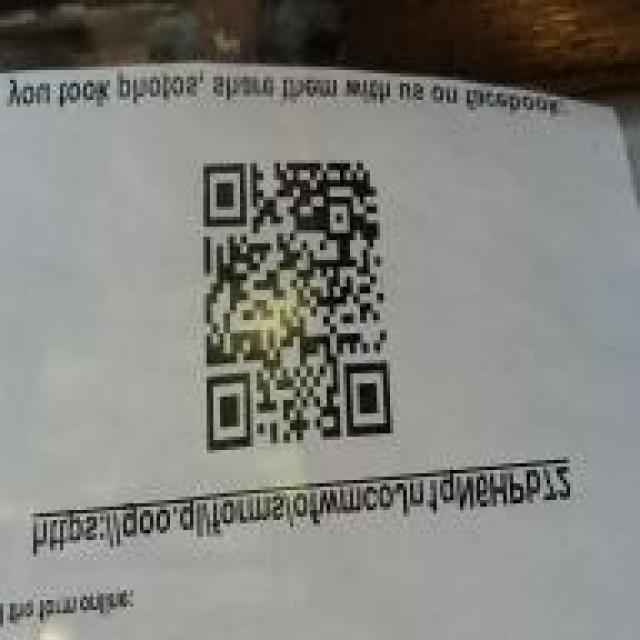qr_code: (202, 161, 394, 452)
